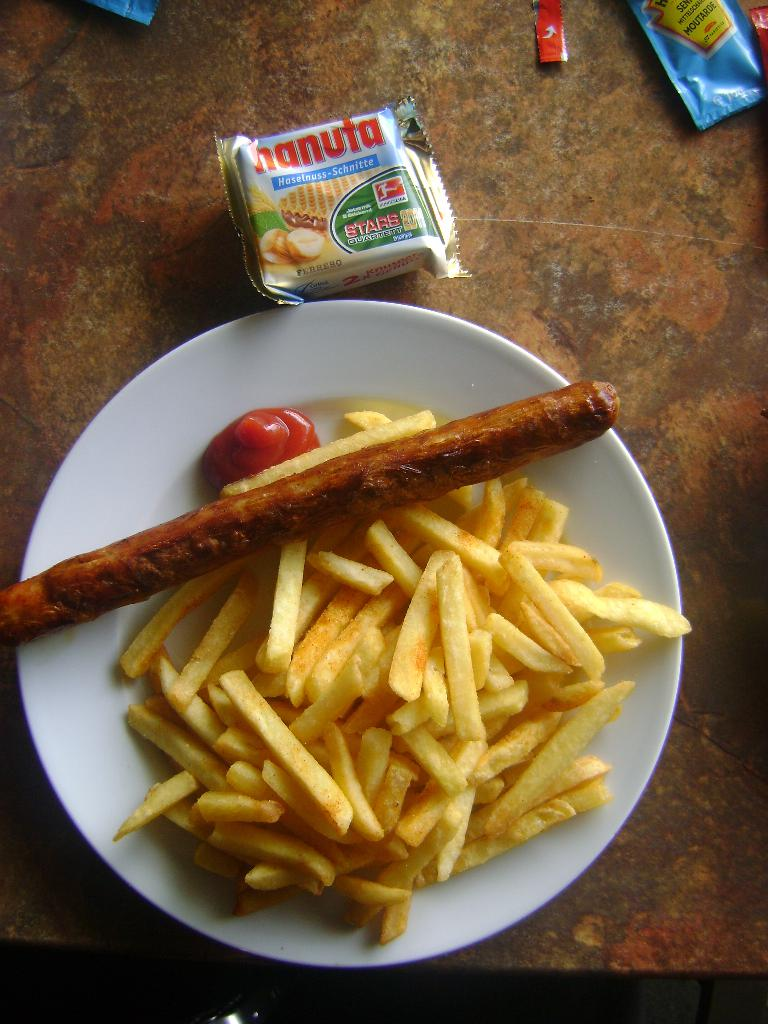French fries: (106, 395, 693, 954)
